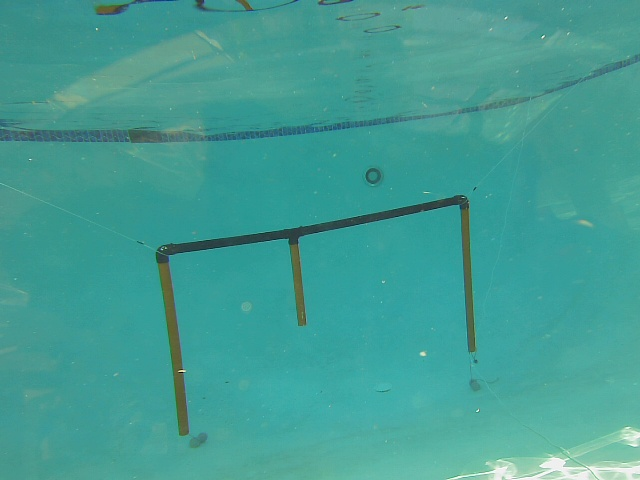Gate: (152, 259, 193, 439), (459, 204, 478, 353), (284, 240, 310, 327)
